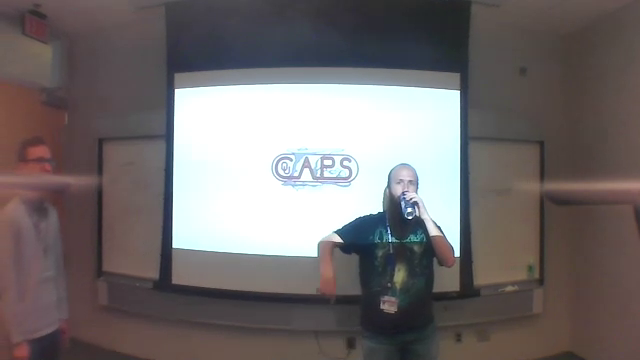down: (314, 269, 341, 309)
